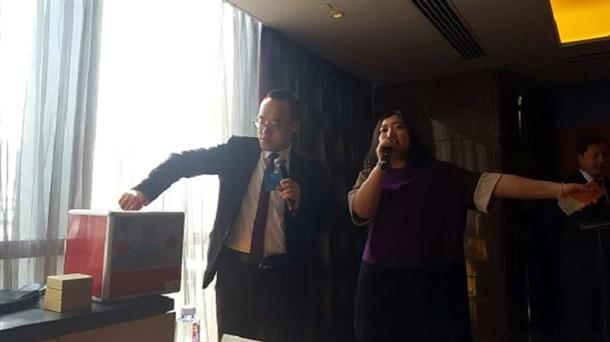other: (340, 103, 593, 336), (114, 88, 323, 338)
